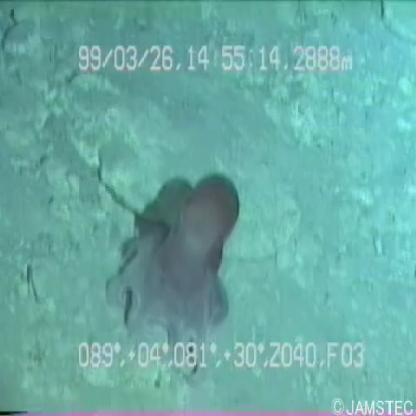Bio: (108, 169, 245, 388)
